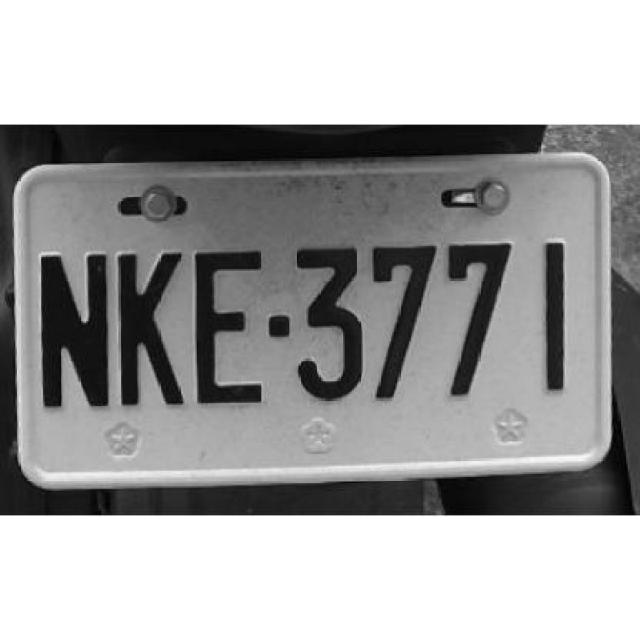-: (268, 312, 290, 337)
1: (540, 238, 569, 396)
3: (294, 238, 366, 408)
7: (364, 237, 438, 405), (440, 238, 515, 397)
E: (184, 243, 264, 415)
K: (109, 243, 186, 415)
N: (34, 243, 111, 415)
